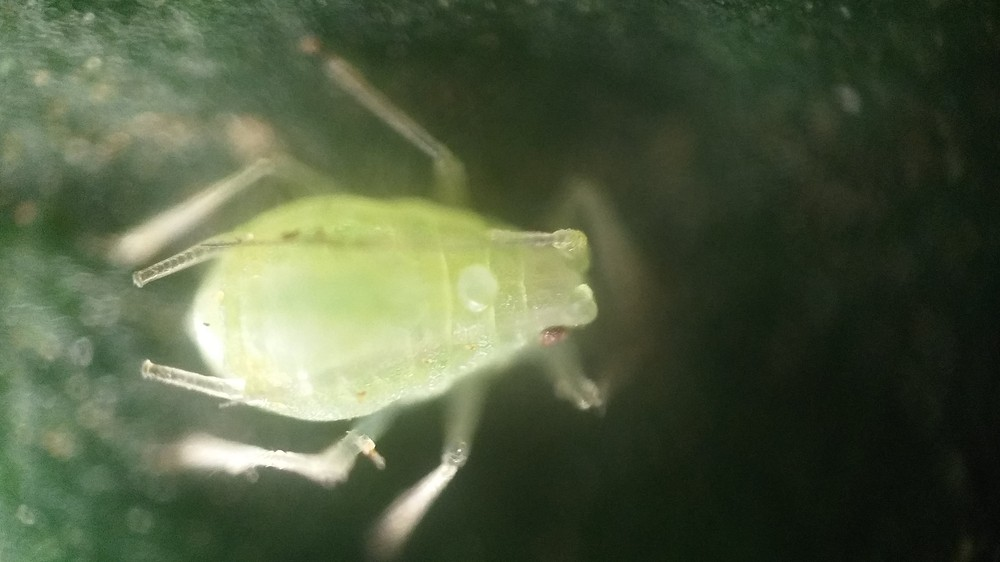Pulgon: (101, 63, 705, 554)
